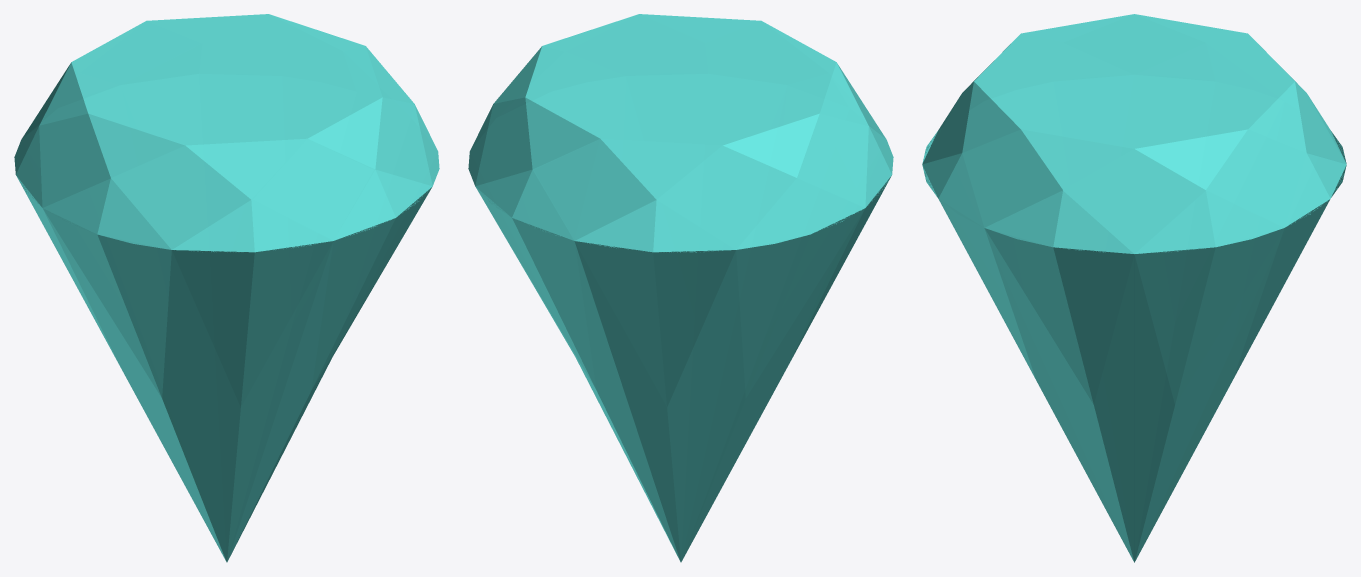
Rendered from diamondgem3.glb.
The picture shows the model from 3 angles, left to right: view 1: azimuth 30°, elevation 25°; view 2: azimuth 150°, elevation 25°; view 3: azimuth 270°, elevation 25°; orthographic projection.
Visible parts, largest first — view 1: diamond; view 2: diamond; view 3: diamond.
Part boxes in pixels (x1=…): diamond: x1=14, y1=14, x2=439, y2=562; diamond: x1=468, y1=14, x2=893, y2=562; diamond: x1=922, y1=14, x2=1346, y2=562.
Bounding box in the file's own units: 2 × 2.5 × 2.
